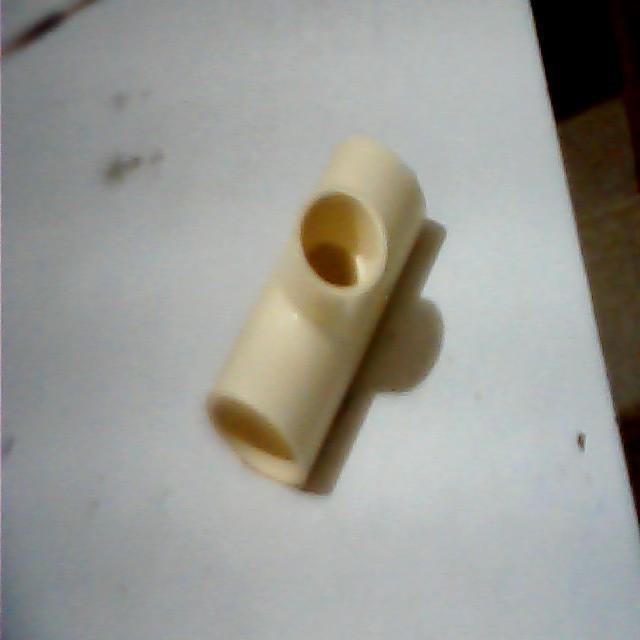T Joint: (208, 136, 429, 488)
